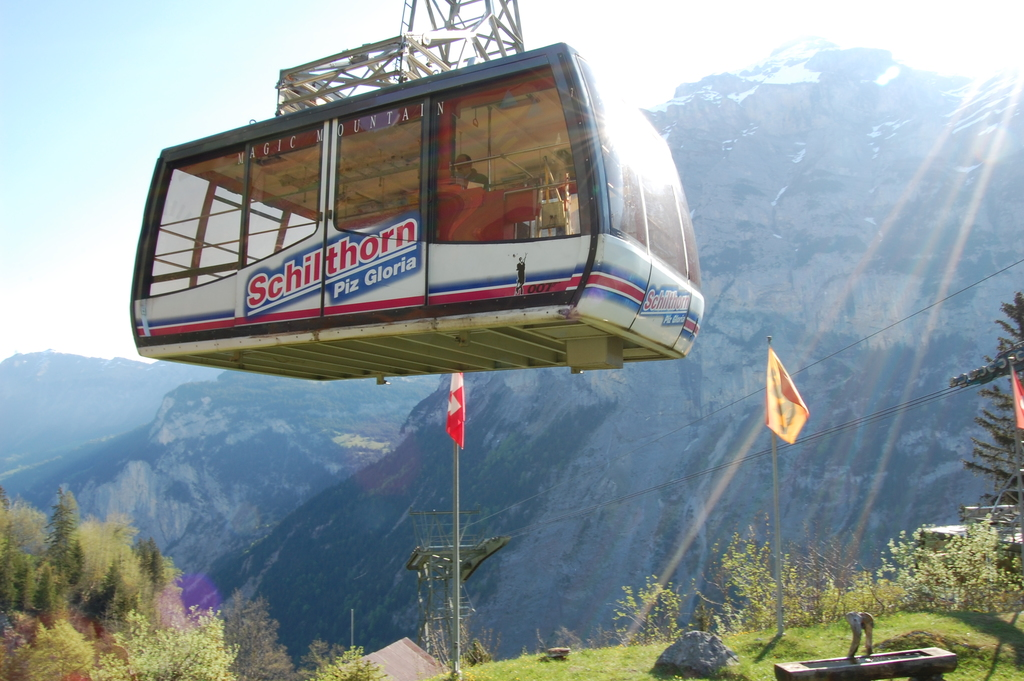Tree: (0, 484, 390, 678), (950, 291, 1024, 527)
